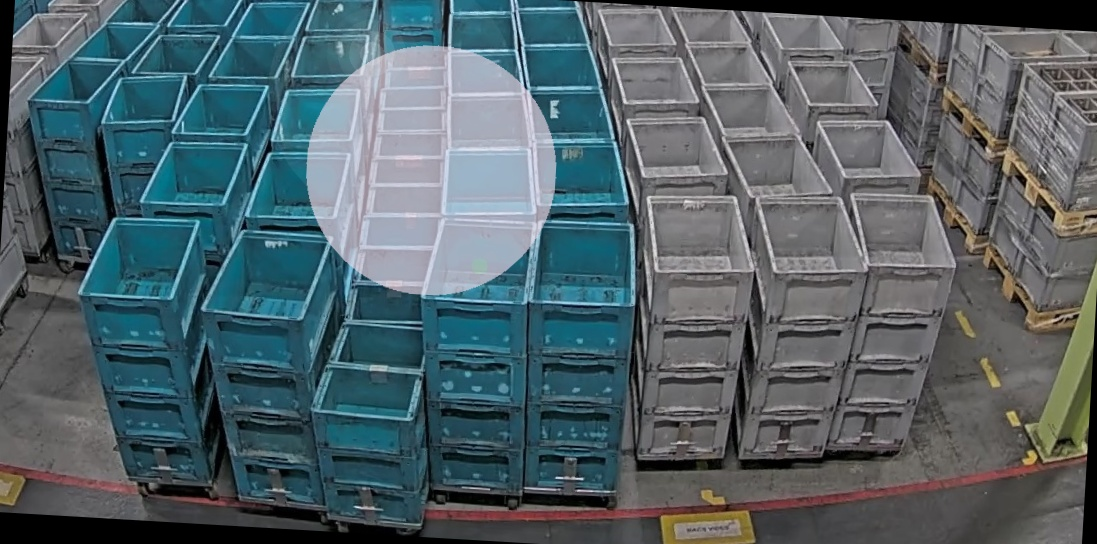4G: (730, 190, 874, 462), (626, 189, 760, 463), (826, 189, 963, 457)
B4: (63, 212, 236, 483), (188, 226, 346, 507), (407, 214, 538, 493), (517, 216, 642, 496), (93, 69, 192, 223)
B8: (303, 318, 439, 527)
